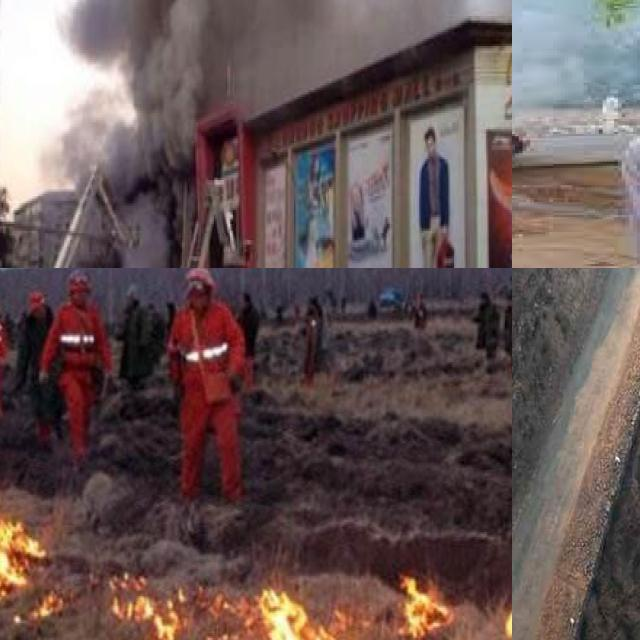fire: (0, 486, 64, 631), (96, 574, 228, 640), (256, 591, 389, 640), (402, 574, 448, 640)
smoke: (36, 0, 512, 191), (512, 0, 640, 108), (112, 196, 171, 268)
